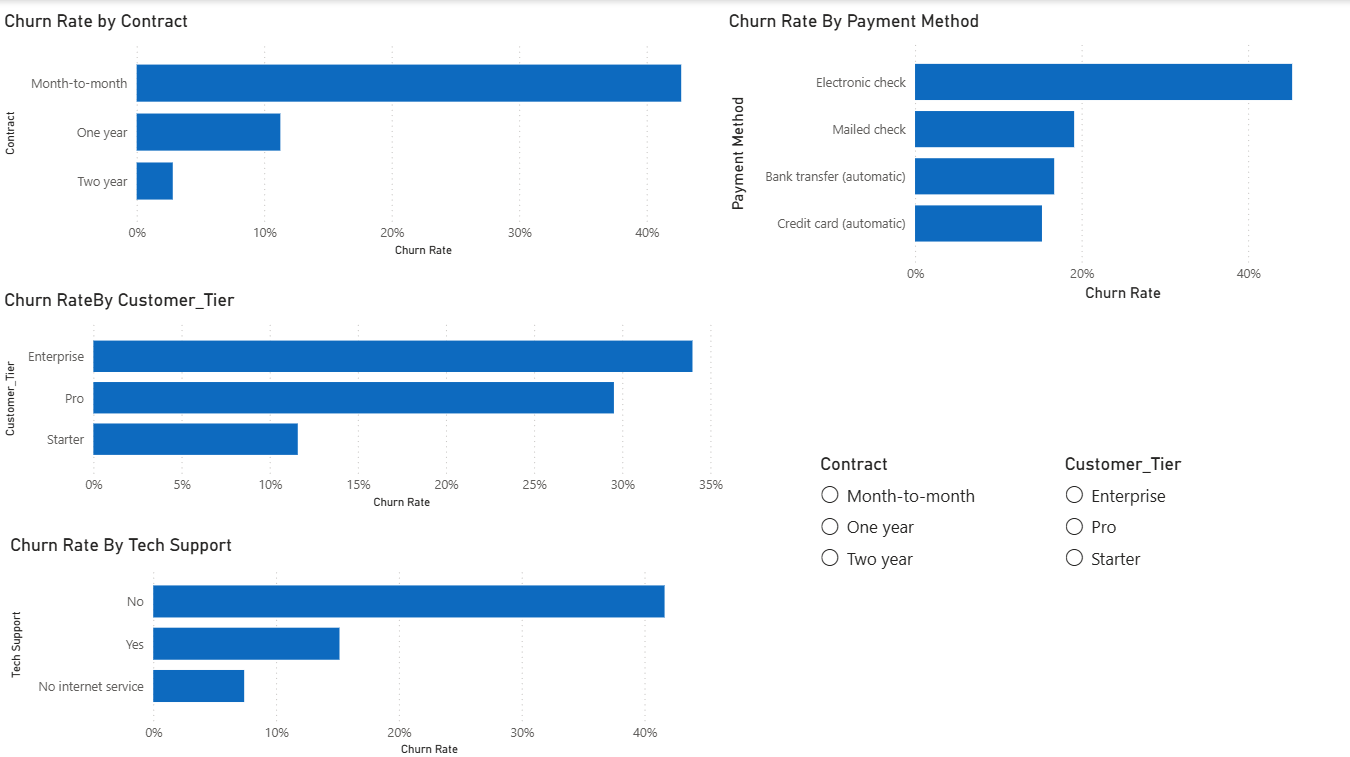

Layout of this report page (visuals, bound fields, positions):
{"tool":"powerbi","page":{"name":"Customer Segmentation","canvas":[1280,720],"ordinal":1},"visuals":[{"type":"barChart","title":"Churn Rate by Contract","fields":{"Category":["B2B_Churn_Limpo2.Contract"],"Y":["B2B_Churn_Limpo2.Churn Rate"]},"box":[0,9.9,690.2,237.2],"z":0},{"type":"barChart","title":"Churn Rate By Tech Support","fields":{"Category":["B2B_Churn_Limpo2.Tech Support"],"Y":["B2B_Churn_Limpo2.Churn Rate"]},"box":[5.7,505.6,680.2,214.4],"z":1000},{"type":"barChart","title":"Churn RateBy Customer_Tier","fields":{"Category":["B2B_Churn_Limpo2.Customer_Tier"],"Y":["B2B_Churn_Limpo2.Churn Rate"]},"box":[0,274.1,690.2,211.6],"z":2000},{"type":"barChart","title":"Churn Rate By Payment Method","fields":{"Category":["B2B_Churn_Limpo2.Payment Method"],"Y":["B2B_Churn_Limpo2.Churn Rate"]},"box":[685.9,9.9,592.2,279.8],"z":3000},{"type":"listSlicer","fields":{"Values":["B2B_Churn_Limpo2.Customer_Tier"]},"box":[1004,428.9,231.5,152],"z":4000},{"type":"listSlicer","fields":{"Values":["B2B_Churn_Limpo2.Contract"]},"box":[772.5,428.9,174.7,152],"z":5000}]}

Visuals, with their boxes in screenshot pixels (x1, y1, x2, y2), scaled from the page's 1280x720 canvas onto the 1350x757 screenshot:
"Churn Rate by Contract" barChart: (x1=0, y1=10, x2=728, y2=260)
"Churn Rate By Tech Support" barChart: (x1=6, y1=532, x2=723, y2=756)
"Churn RateBy Customer_Tier" barChart: (x1=0, y1=288, x2=728, y2=511)
"Churn Rate By Payment Method" barChart: (x1=723, y1=10, x2=1348, y2=305)
listSlicer - B2B_Churn_Limpo2.Customer_Tier: (x1=1059, y1=451, x2=1303, y2=611)
listSlicer - B2B_Churn_Limpo2.Contract: (x1=815, y1=451, x2=999, y2=611)
